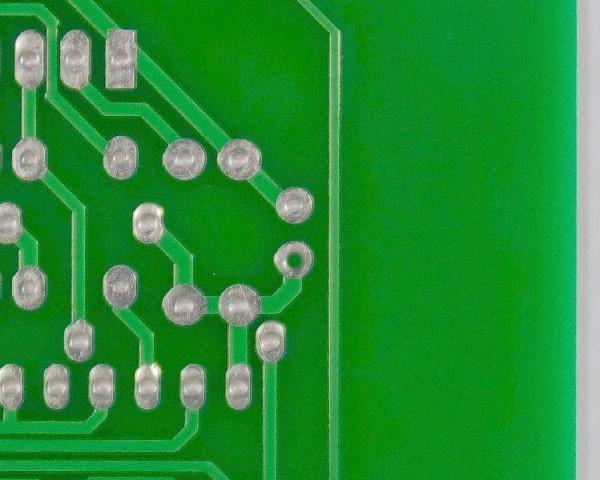missing hole: (271, 235, 319, 285)
